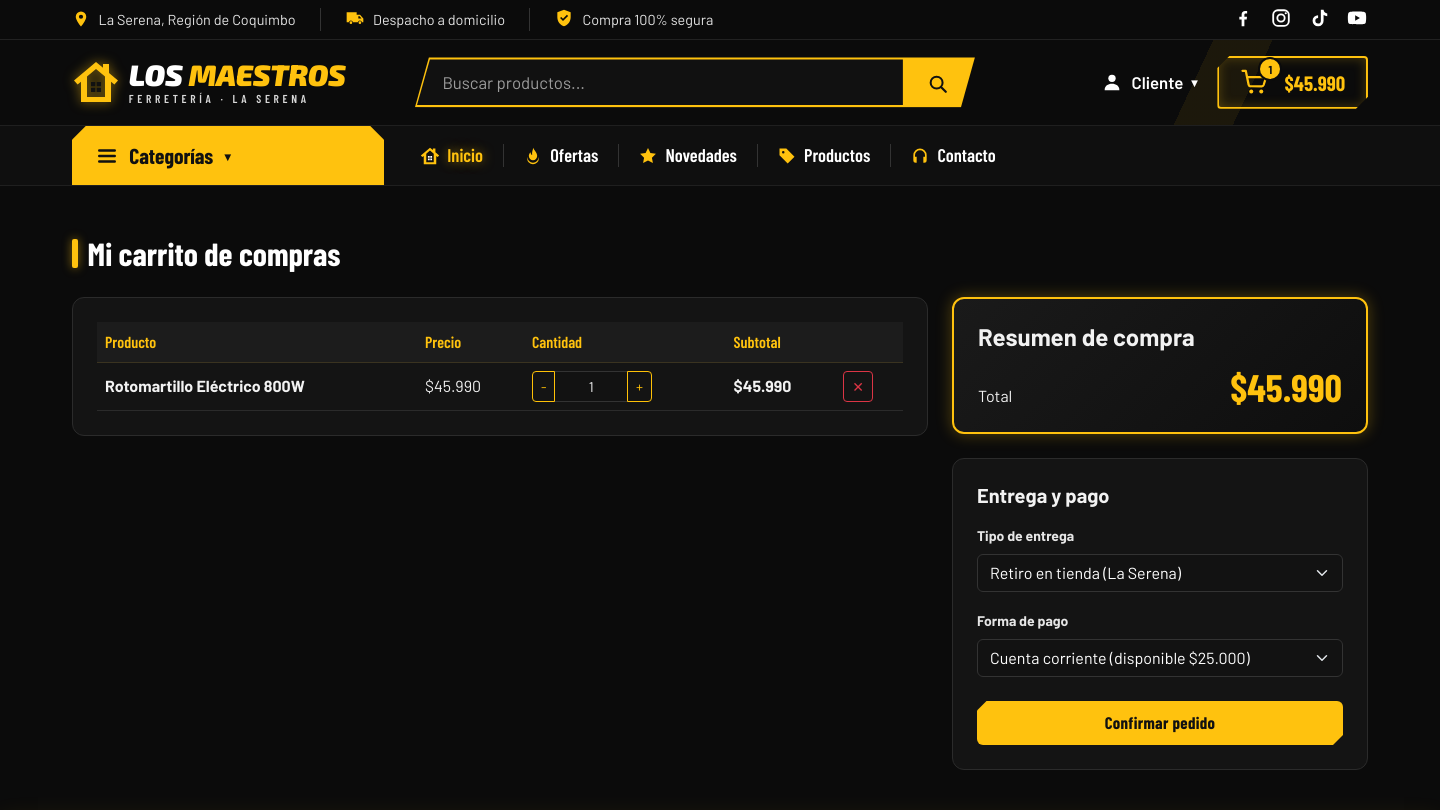
Test: Página Carrito › avisa cuando el pedido supera el cupo disponible
Select "Cuenta corriente (disponible $25.000)" in the dropdown with id "formaPago" at {"x": 1160, "y": 658}, box [977,638,1343,676]
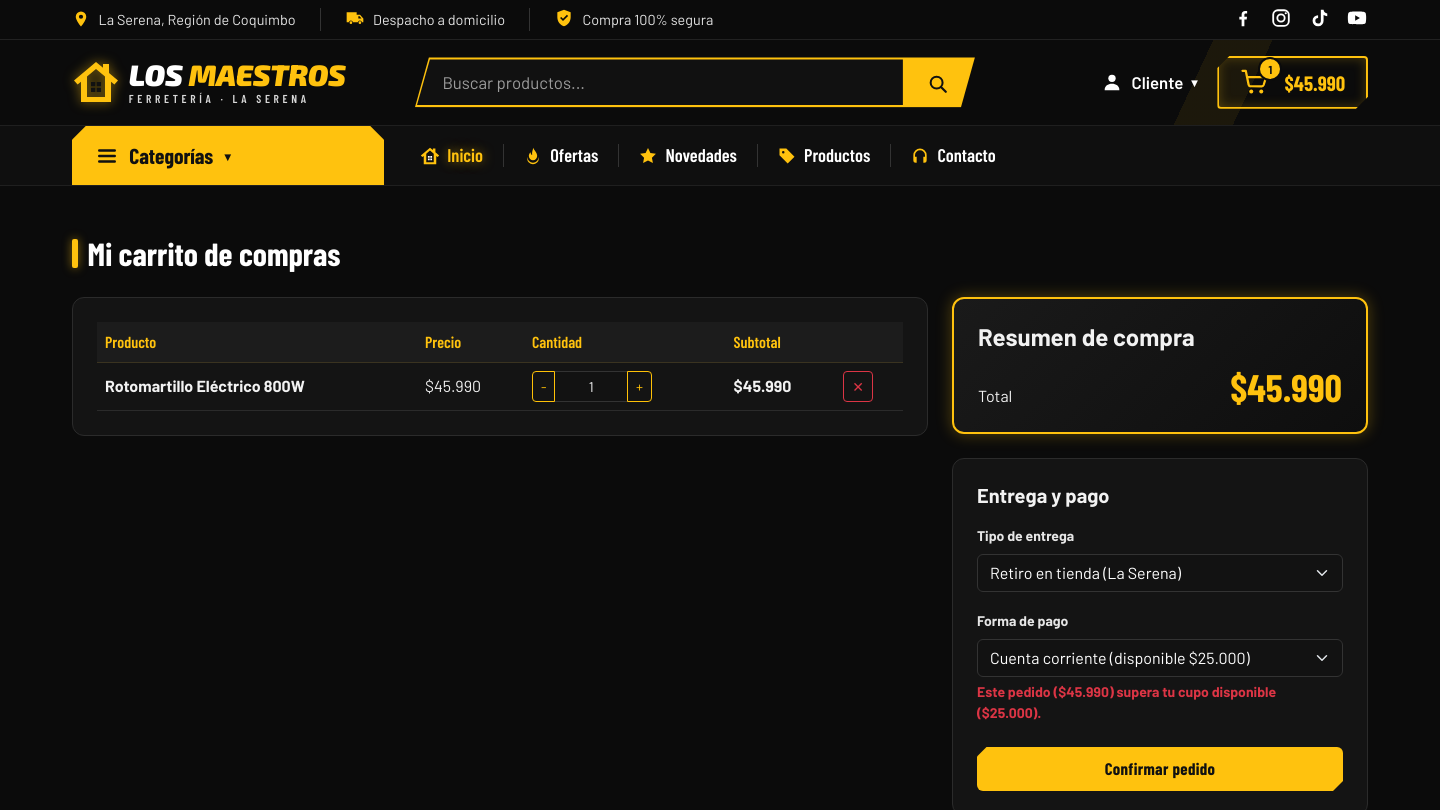
Check: the text "Este pedido ($45.990) supera tu cupo disponible ($25.000)." is shown, box [977,682,1276,720]
